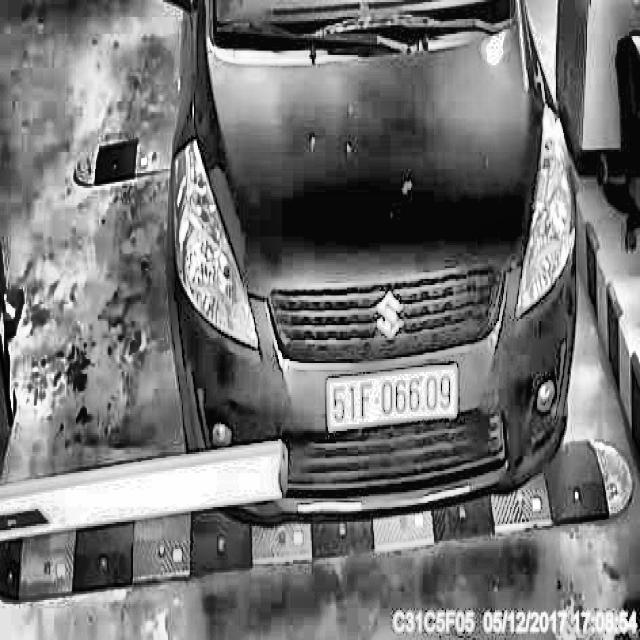plate: (321, 360, 464, 436)
